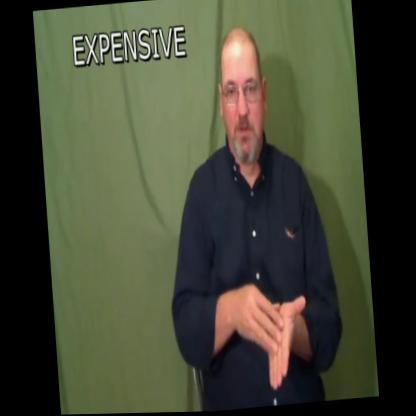Expensive: (152, 20, 348, 413)
